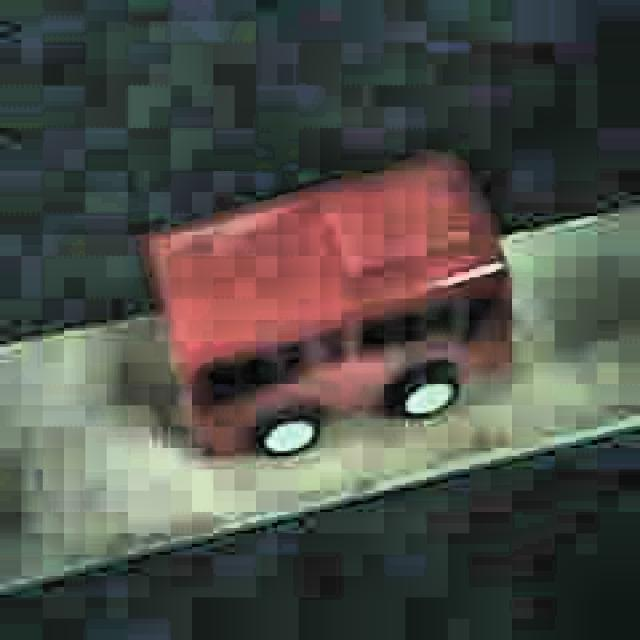bus: (148, 156, 513, 462)
